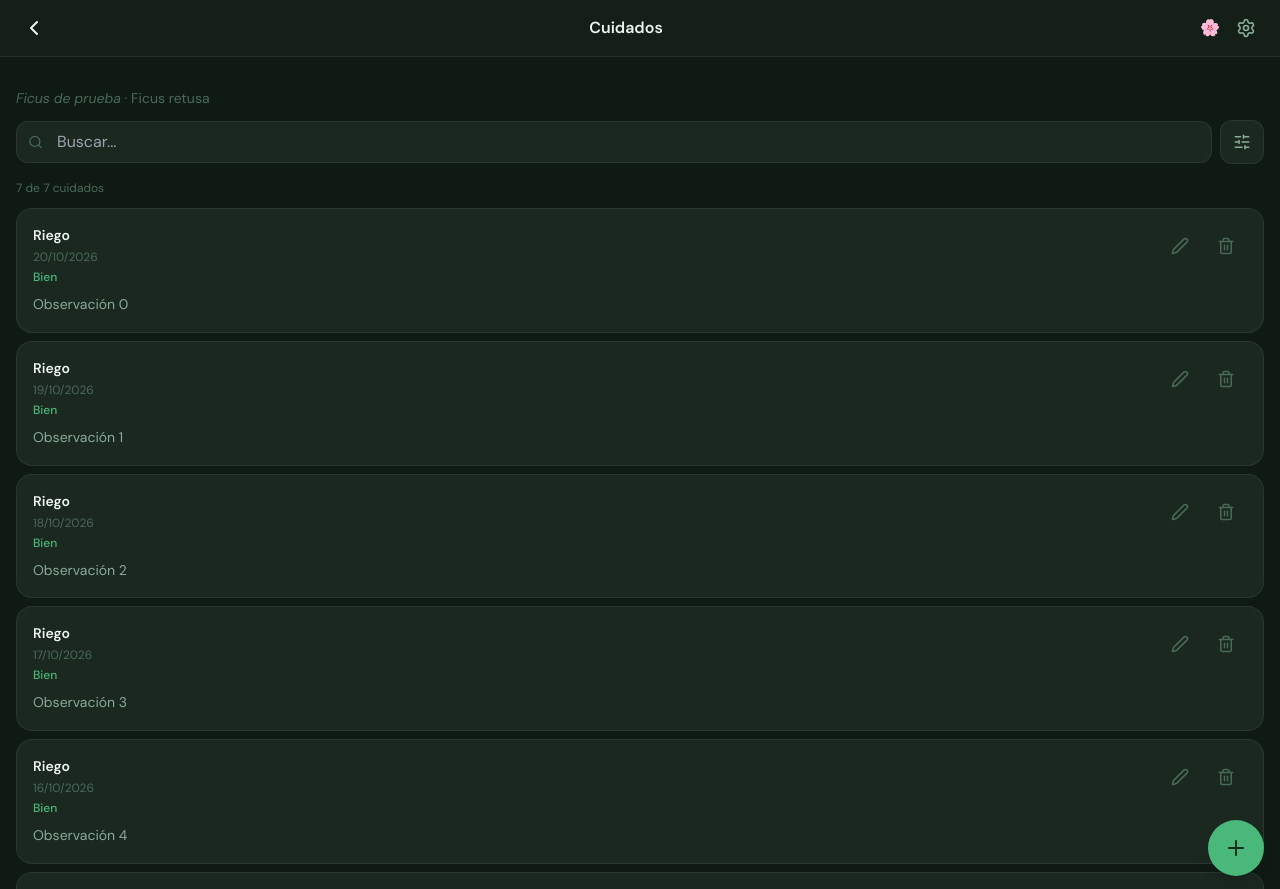
Test: B026 — historial de cuidados › conserva el registro visible si falla la eliminación
Click the button named "Eliminar Riego del 20/10/2026" at point(1226, 246), box [1205,225,1247,267]
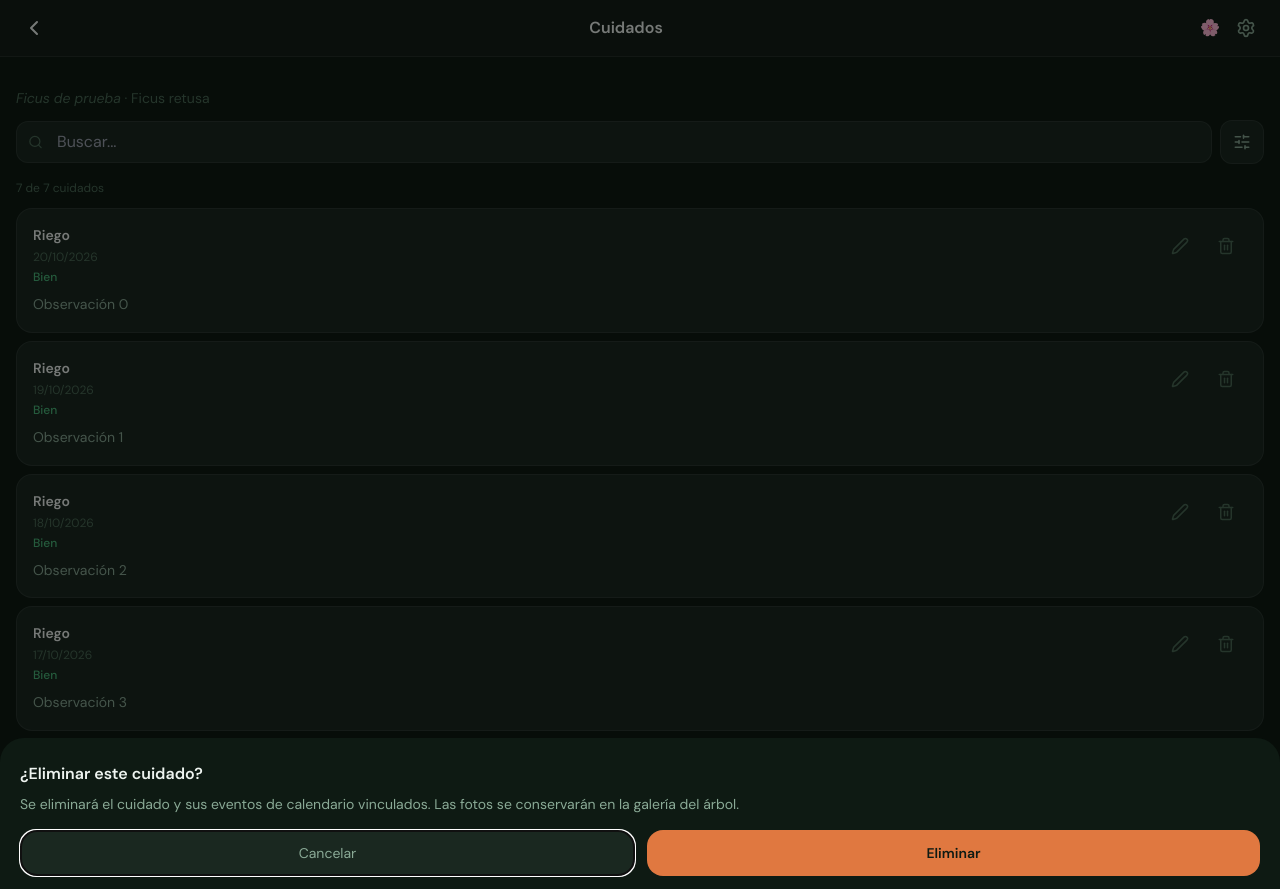
Check: the button "Eliminar" is shown
Click the button "Eliminar" at point(954, 853), box [647,830,1260,876]
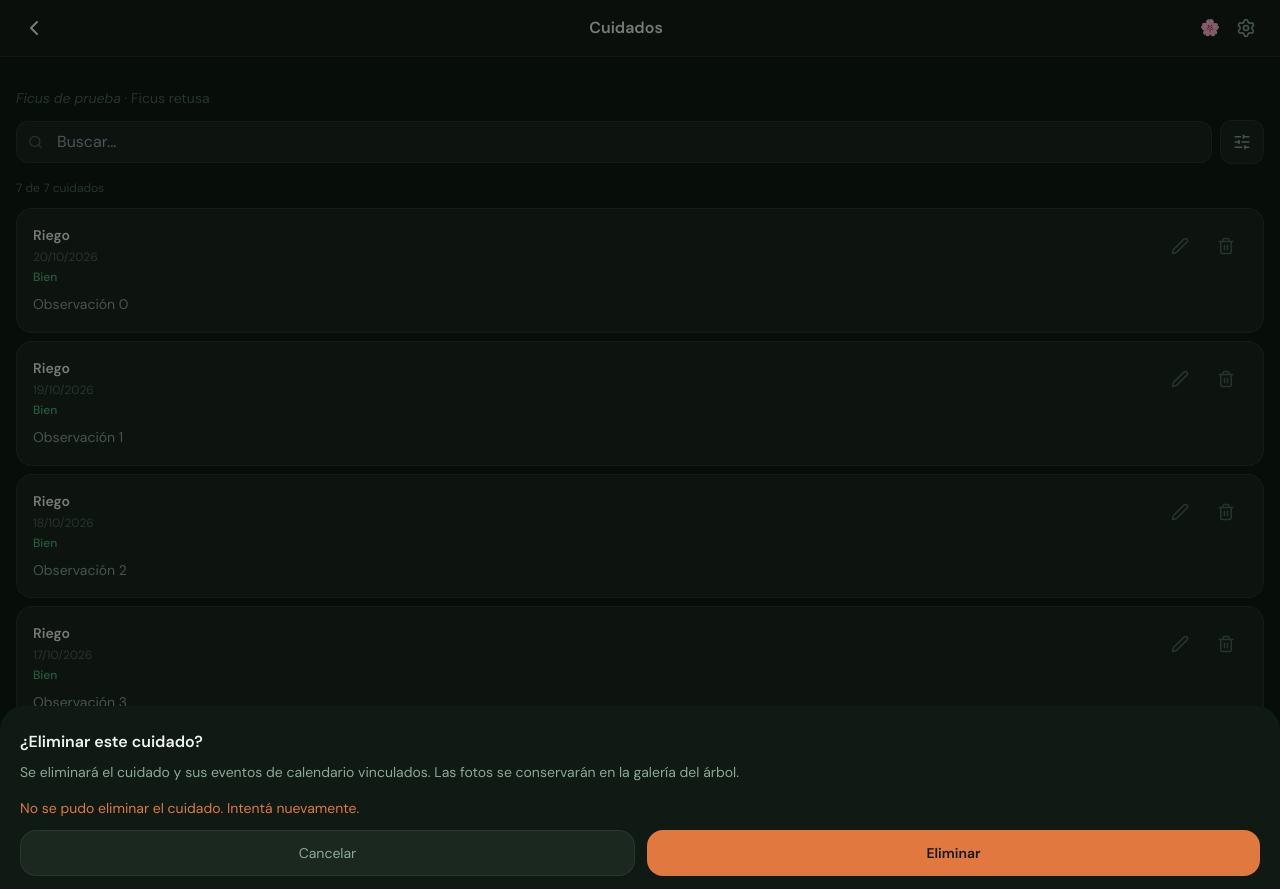
Check: the message "No se pudo eliminar el cuidado. Intentá nuevamente." is shown, box [20,799,359,817]
